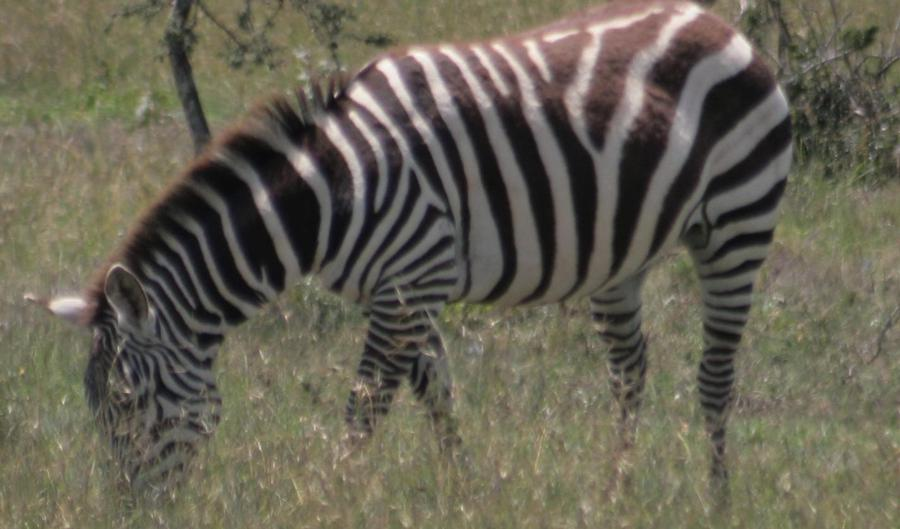zebra_plains: (317, 4, 795, 308)
